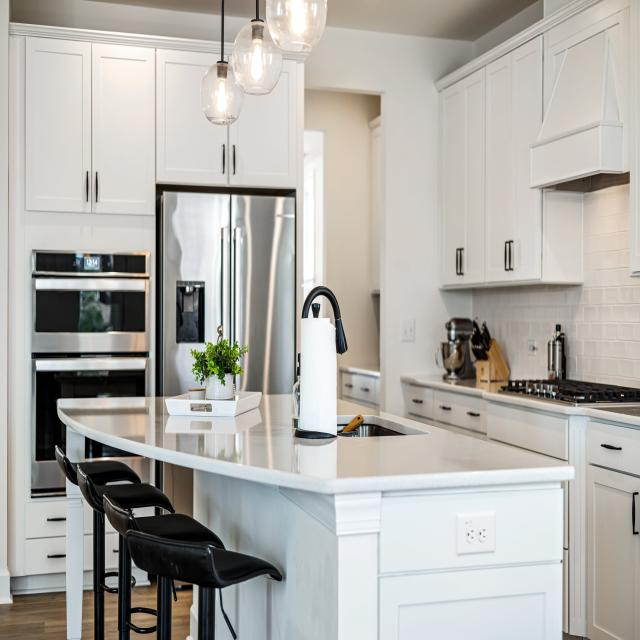Appliance_Fridge: (160, 187, 295, 396), (155, 460, 194, 518)
Appliance_Oven: (32, 358, 146, 497), (32, 250, 150, 355), (87, 442, 153, 484)
Appliance_Sink: (301, 286, 348, 355), (338, 415, 428, 437)
Appliance_Stove: (505, 378, 640, 409)
Cabinet_Flat: (405, 378, 640, 477), (21, 502, 68, 575), (338, 370, 381, 409)
Cabinet_Shaker: (23, 37, 304, 217), (440, 39, 541, 282), (584, 465, 640, 640)
Countertop_Solid_Surface: (57, 394, 574, 488), (400, 376, 640, 425), (339, 365, 382, 376)
